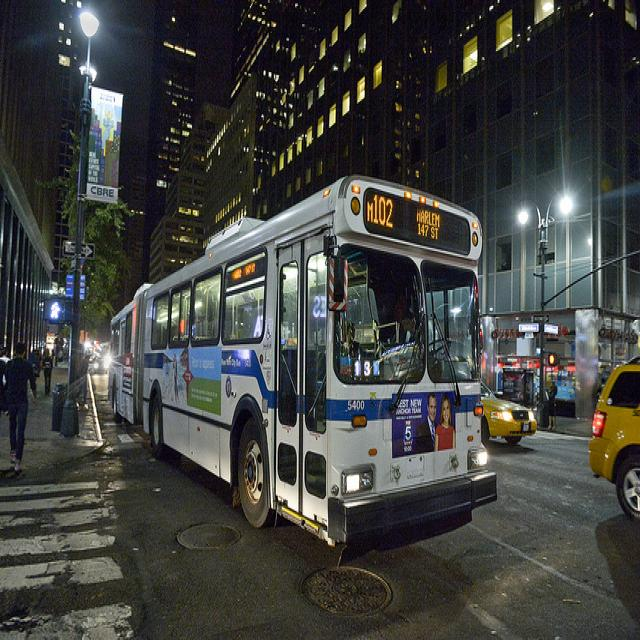AB: (102, 170, 504, 562)
